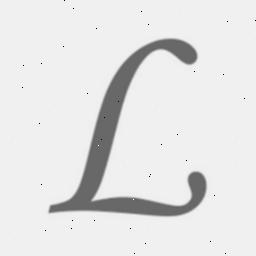l: (44, 18, 218, 230)
